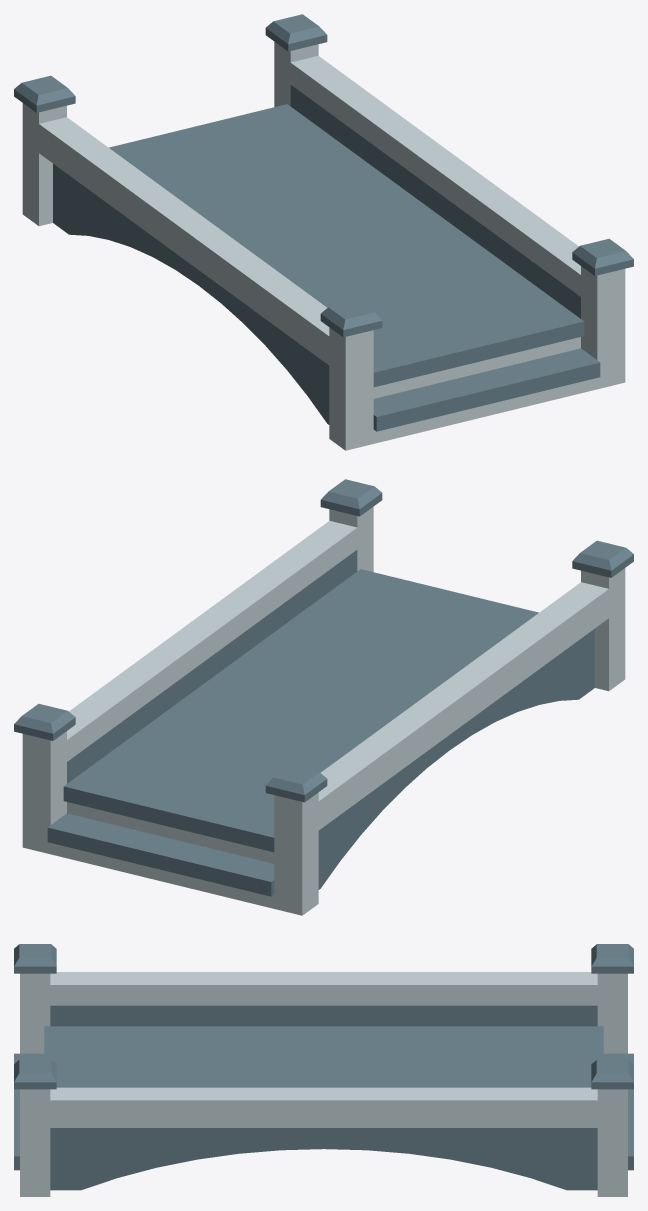
The model's file is Bridge.glb.
3 renders of one model, top to bottom at view 1: azimuth 30°, elevation 25°; view 2: azimuth 150°, elevation 25°; view 3: azimuth 270°, elevation 25°, orthographic. The views are drawn at different scales.
Parts seen in each view (by area): view 1: bridge_side_stoneRound; view 2: bridge_side_stoneRound; view 3: bridge_side_stoneRound.
Boxes of the visible parts, x1,y1,x2,y2 form: bridge_side_stoneRound: (14,14,633,450); bridge_side_stoneRound: (14,479,633,915); bridge_side_stoneRound: (14,944,633,1196).
Size of the model in its own units: 2.08 by 0.9 by 4.08.
